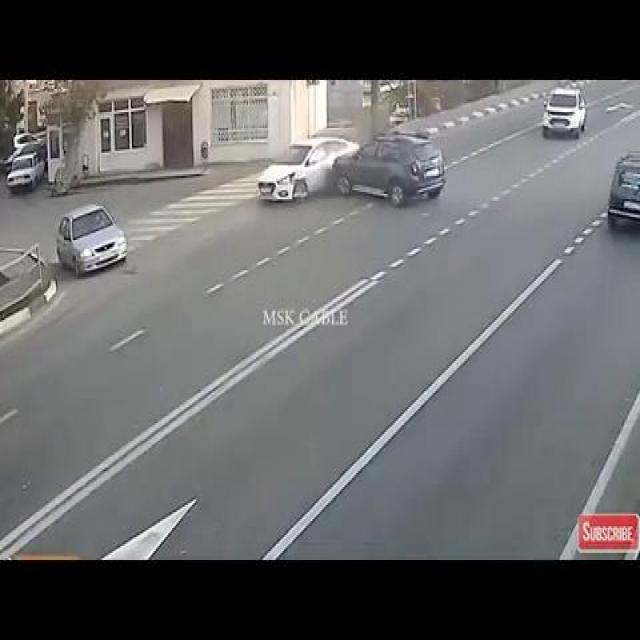accident: (252, 98, 444, 222)
